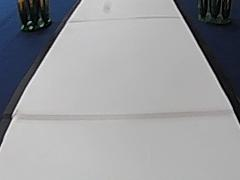corn: (14, 0, 53, 32), (195, 0, 234, 25)
